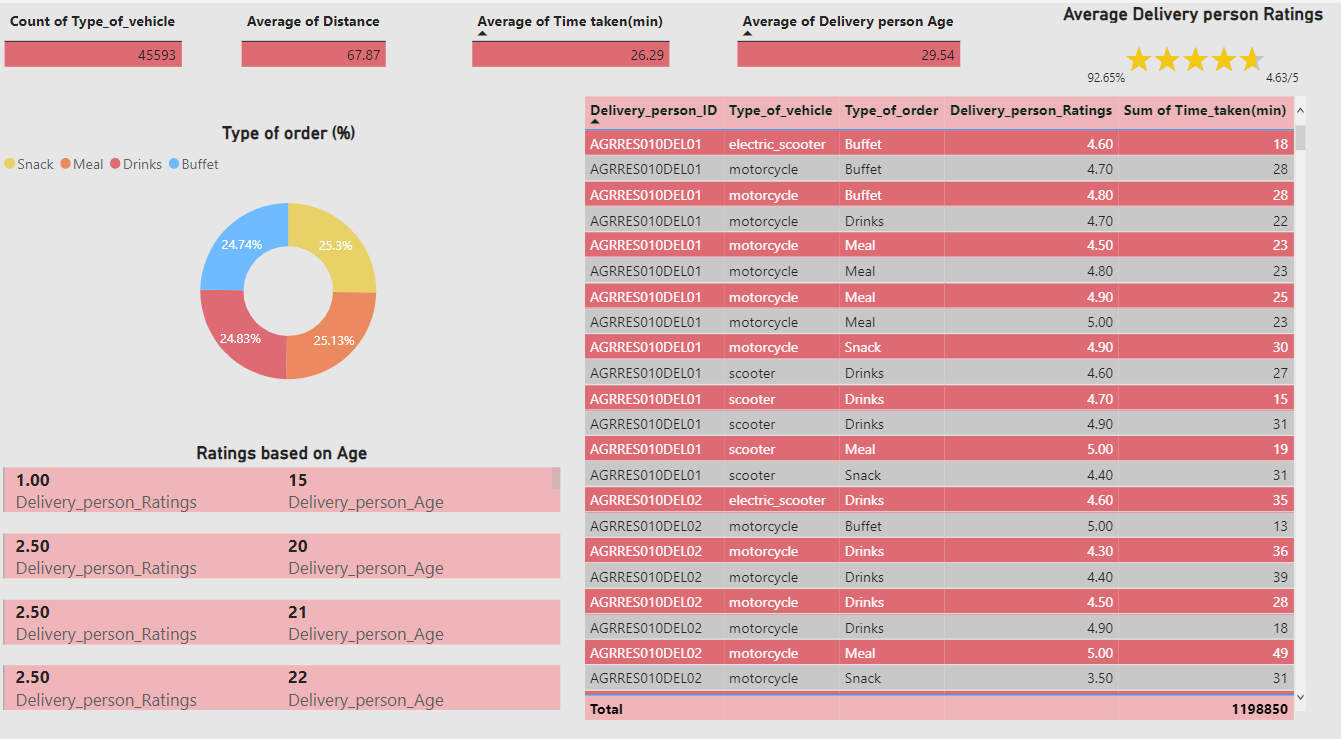

This screenshot's page, from the dashboard's own definition file:
{"tool":"powerbi","page":{"name":"Power BI","canvas":[1280,720],"ordinal":0},"visuals":[{"type":"tableEx","fields":{"Values":["Avg(new_data.Time_taken(min))"]},"box":[441.2,0,211.2,81.2],"z":1000},{"type":"tableEx","fields":{"Values":["Avg(new_data.Delivery_person_Age)"]},"box":[691.2,0,282.5,96.2],"z":2000},{"type":"ratingsvisual001","fields":{"measure":["Avg(new_data.Delivery_person_Ratings)"]},"box":[973.8,0,306.2,96.2],"z":3000},{"type":"donutChart","title":"Type of order (%)","fields":{"Category":["new_data.Type_of_order"],"Y":["CountNonNull(new_data.Type_of_order)"]},"box":[0,112.5,547.5,270],"z":4000},{"type":"multiRowCard","title":"Ratings based on Age","fields":{"Values":["new_data.Delivery_person_Ratings","new_data.Delivery_person_Age"]},"box":[0,413.8,535,267.5],"z":5000},{"type":"tableEx","fields":{"Values":["new_data.Type_of_vehicle"]},"box":[0,0,282.5,81.2],"z":5001},{"type":"tableEx","fields":{"Values":["new_data.Delivery_person_ID","new_data.Type_of_vehicle","new_data.Type_of_order","new_data.Delivery_person_Ratings","Sum(new_data.Time_taken(min))"]},"box":[547.5,83.8,690,597.5],"z":5002},{"type":"tableEx","fields":{"Values":["Avg(new_data.Distance)"]},"box":[223.8,0,207.5,85],"z":5003}]}

Visuals, with their boxes in screenshot pixels (x1, y1, x2, y2), scaled from the page's 1280x720 canvas onto the 1341x739 screenshot:
tableEx - Avg(new_data.Time_taken(min)): region(462, 0, 683, 83)
tableEx - Avg(new_data.Delivery_person_Age): region(724, 0, 1020, 99)
ratingsvisual001 - Avg(new_data.Delivery_person_Ratings): region(1020, 0, 1340, 99)
"Type of order (%)" donutChart: region(0, 115, 574, 393)
"Ratings based on Age" multiRowCard: region(0, 425, 560, 699)
tableEx - new_data.Type_of_vehicle: region(0, 0, 296, 83)
tableEx - new_data.Delivery_person_ID x new_data.Type_of_vehicle: region(574, 86, 1296, 699)
tableEx - Avg(new_data.Distance): region(234, 0, 452, 87)
